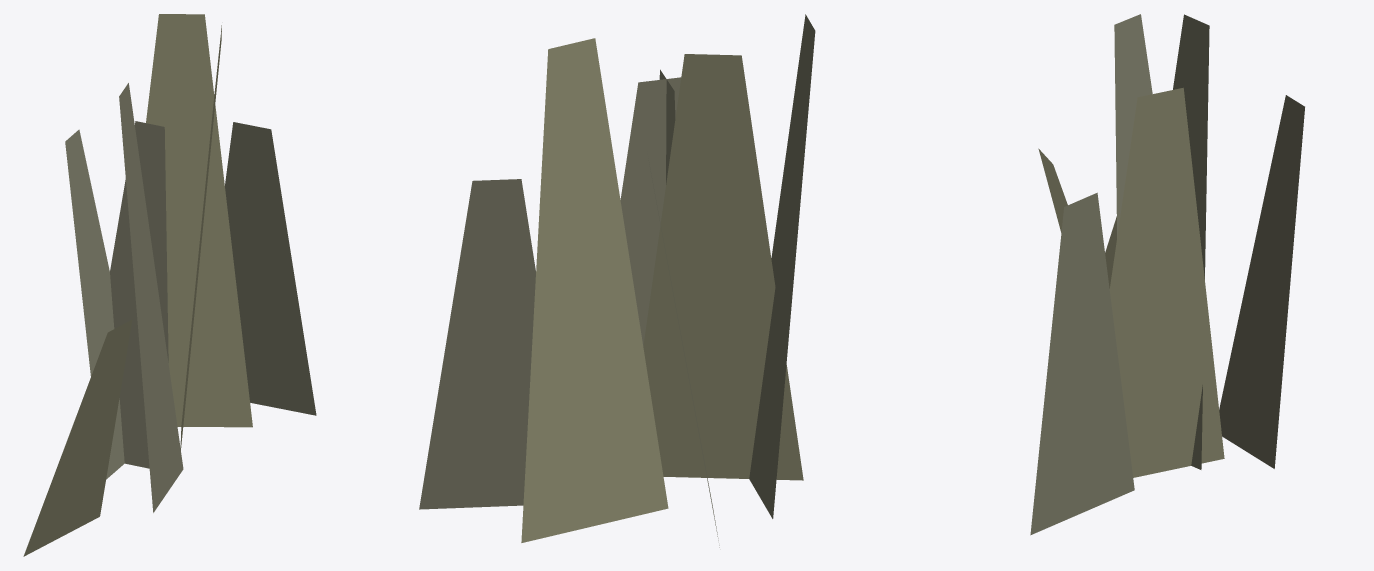
Rendered from shrub.temp.grass__winter.glb.
3 renders of one model, left to right at view 1: azimuth 30°, elevation 25°; view 2: azimuth 150°, elevation 25°; view 3: azimuth 270°, elevation 25°, orthographic. The views are drawn at different scales.
Visible parts, largest first — view 1: shrub.temp.grass__winter; view 2: shrub.temp.grass__winter; view 3: shrub.temp.grass__winter.
Part boxes in pixels (x1,y1,x2,y2): shrub.temp.grass__winter: (23, 14, 316, 556); shrub.temp.grass__winter: (419, 14, 815, 547); shrub.temp.grass__winter: (1030, 14, 1304, 535).
Size of the model in its own units: 0.5952 by 0.5961 by 0.4268.
